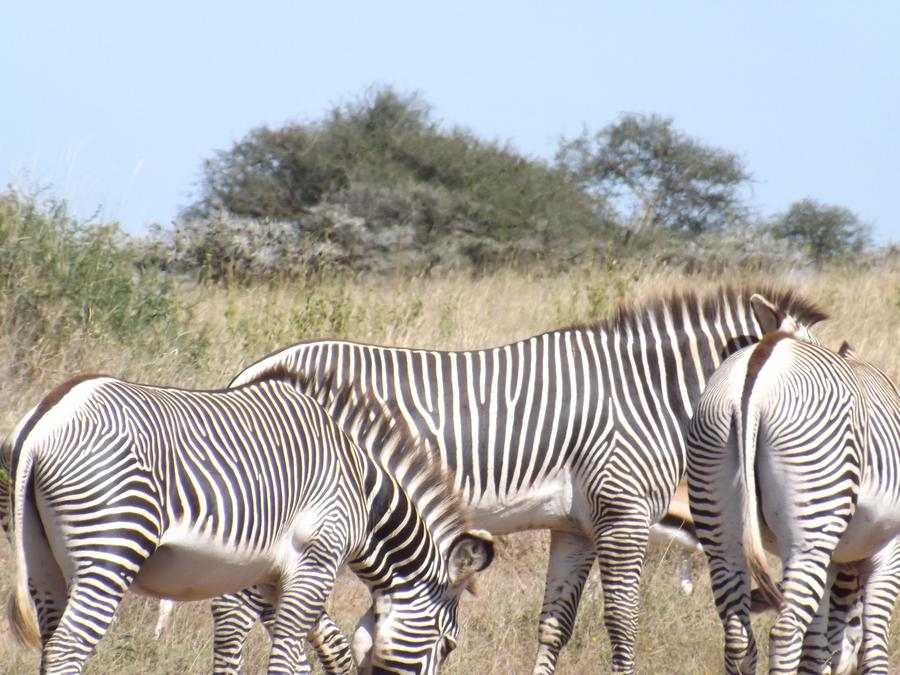zebra_grevys: (344, 315, 661, 528)
